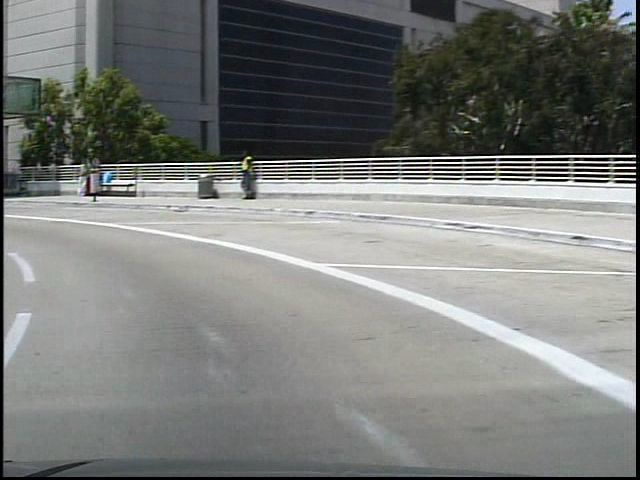person: (230, 146, 252, 202)
